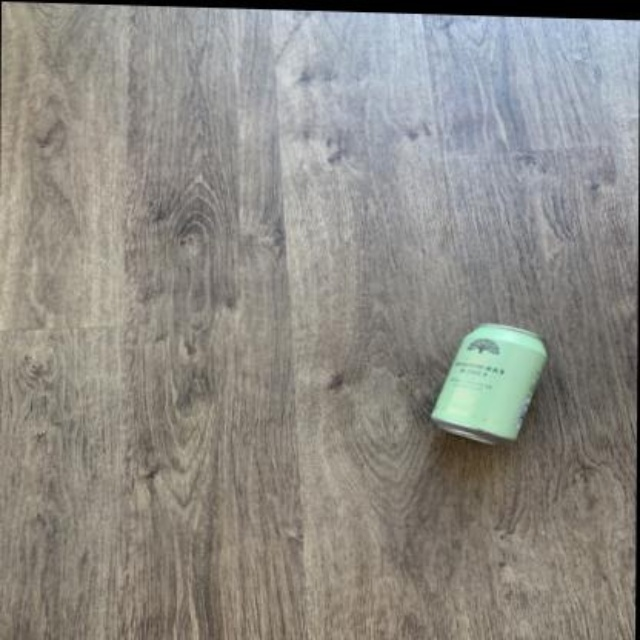trash: (431, 323, 546, 442)
